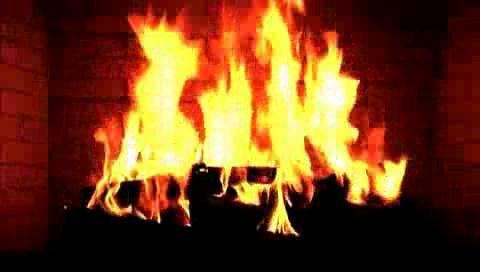fire: (113, 11, 385, 223)
